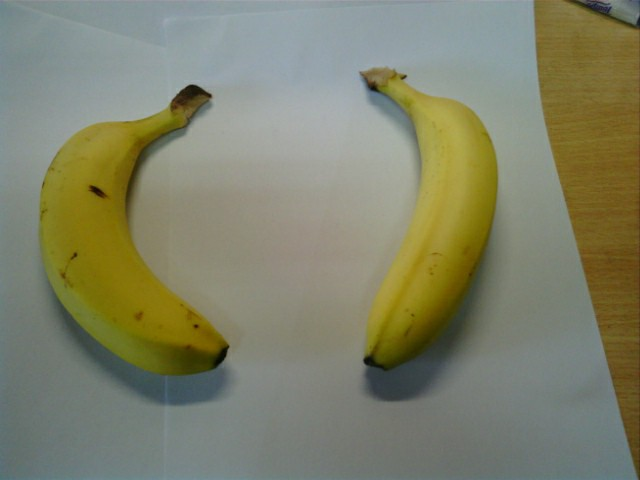fresh_banana: (359, 65, 500, 376)
normal_banana: (42, 86, 229, 372)
